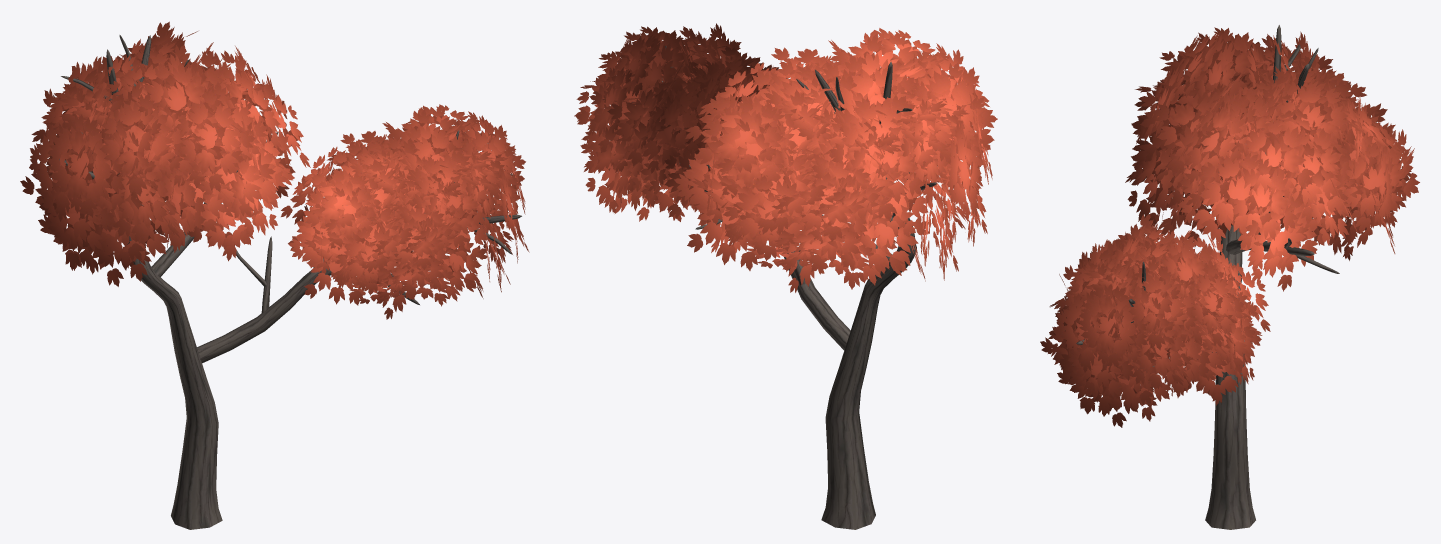
Rendered from q_maple_1.glb.
3 renders of one model, left to right at view 1: azimuth 30°, elevation 25°; view 2: azimuth 150°, elevation 25°; view 3: azimuth 270°, elevation 25°, orthographic. The views are drawn at different scales.
Visible parts, largest first — view 1: MapleTree_1; view 2: MapleTree_1; view 3: MapleTree_1.
Part boxes in pixels (<box>): MapleTree_1: <box>20,21,529,529</box>; MapleTree_1: <box>574,23,997,529</box>; MapleTree_1: <box>1040,25,1419,529</box>.
Size of the model in its own units: 9.37 by 10 by 7.38.
2 materials, 2 textured.
